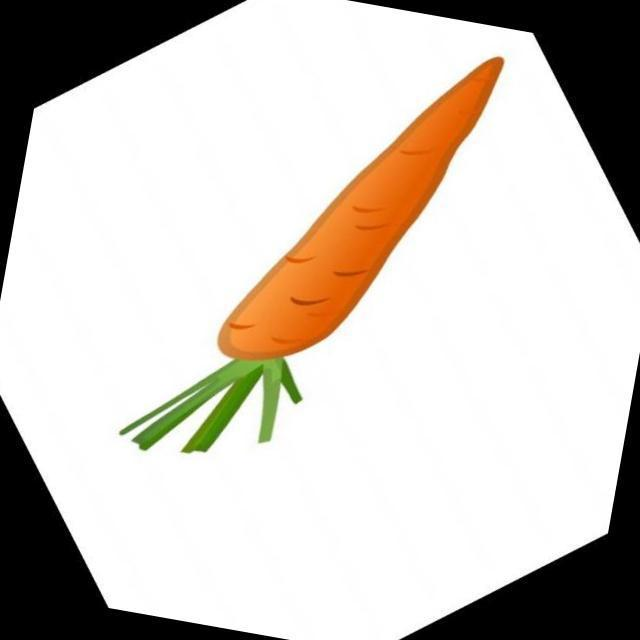Carrot: (121, 58, 502, 452)
